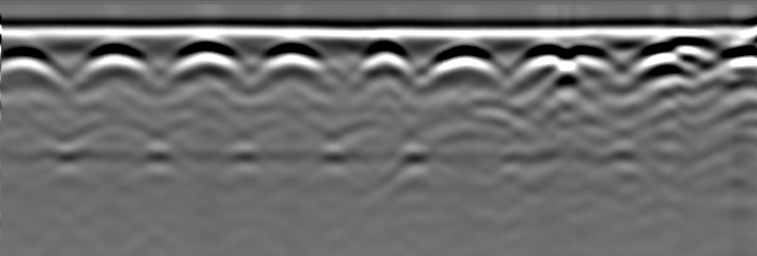pipe: (725, 24, 757, 52)
steel: (175, 44, 232, 81), (260, 44, 320, 78), (437, 45, 496, 79), (517, 45, 570, 79), (567, 43, 620, 77), (635, 49, 693, 80), (1, 45, 50, 81), (86, 44, 138, 77), (358, 44, 406, 75)
